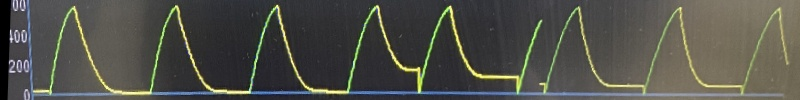leakage: (338, 0, 776, 100)
normal_volume: (44, 0, 335, 100)
